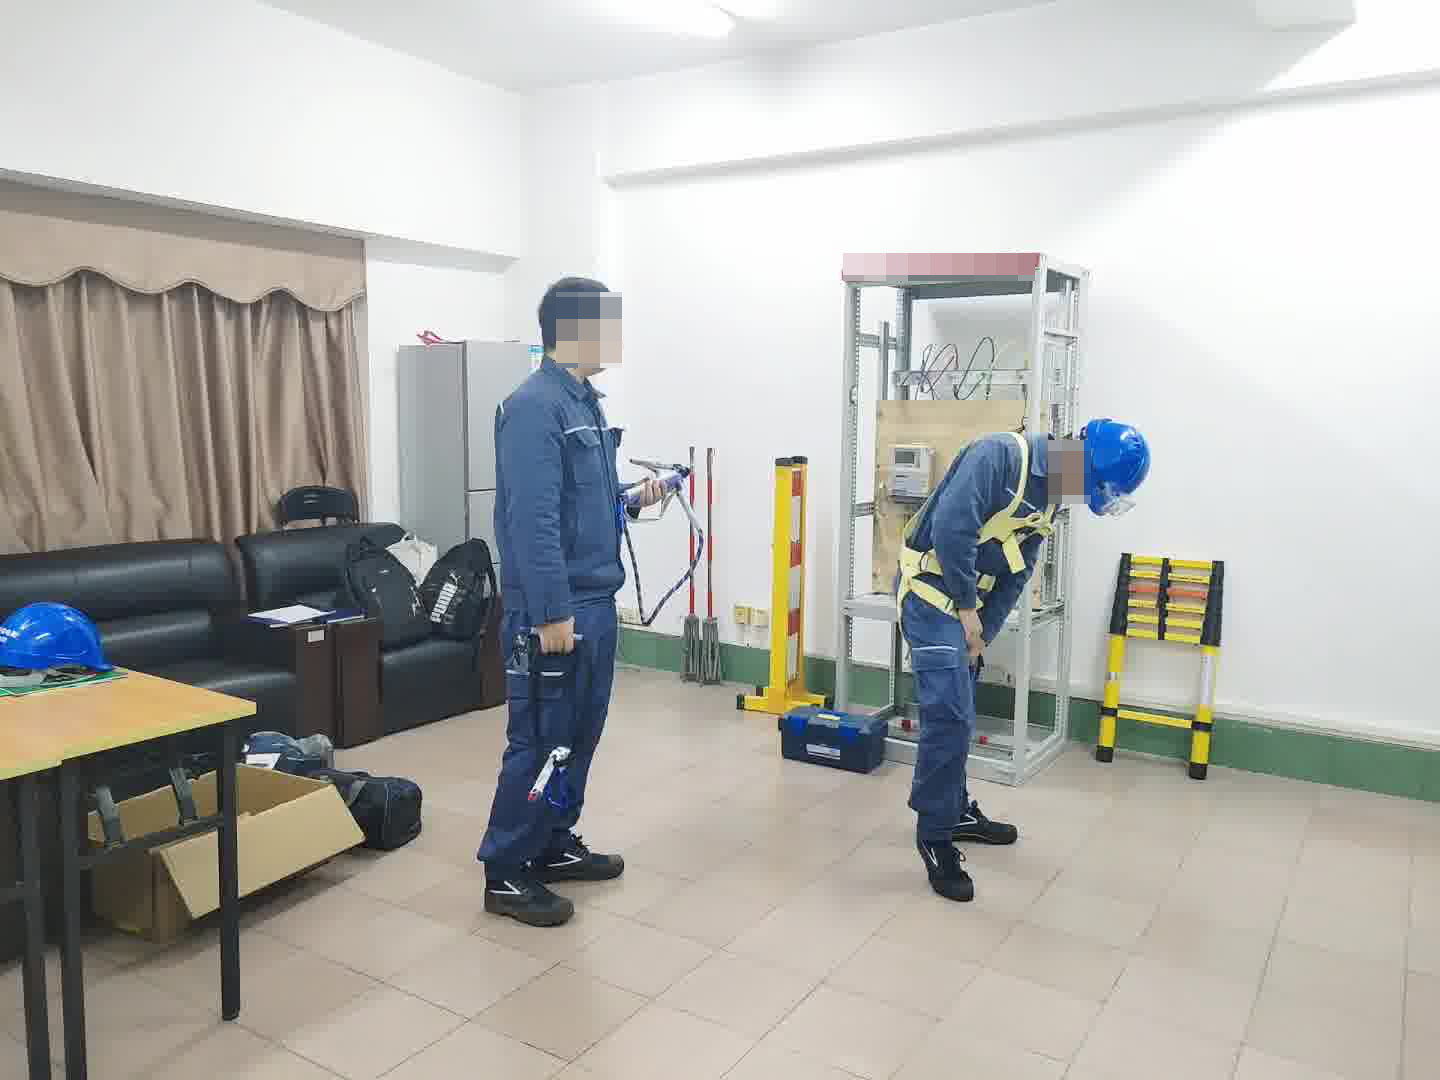downsuit: (488, 620, 618, 865), (901, 592, 986, 848)
halt: (1046, 415, 1153, 520)
hand: (953, 609, 997, 661), (536, 619, 579, 656), (635, 476, 670, 509)
inear: (1052, 436, 1087, 483)
noear: (560, 322, 591, 362)
person: (899, 405, 1153, 875), (476, 270, 646, 919)
safebelt: (896, 419, 1063, 620)
unhalt: (535, 274, 624, 375)
upsuit: (495, 367, 622, 597), (896, 431, 1053, 609)
